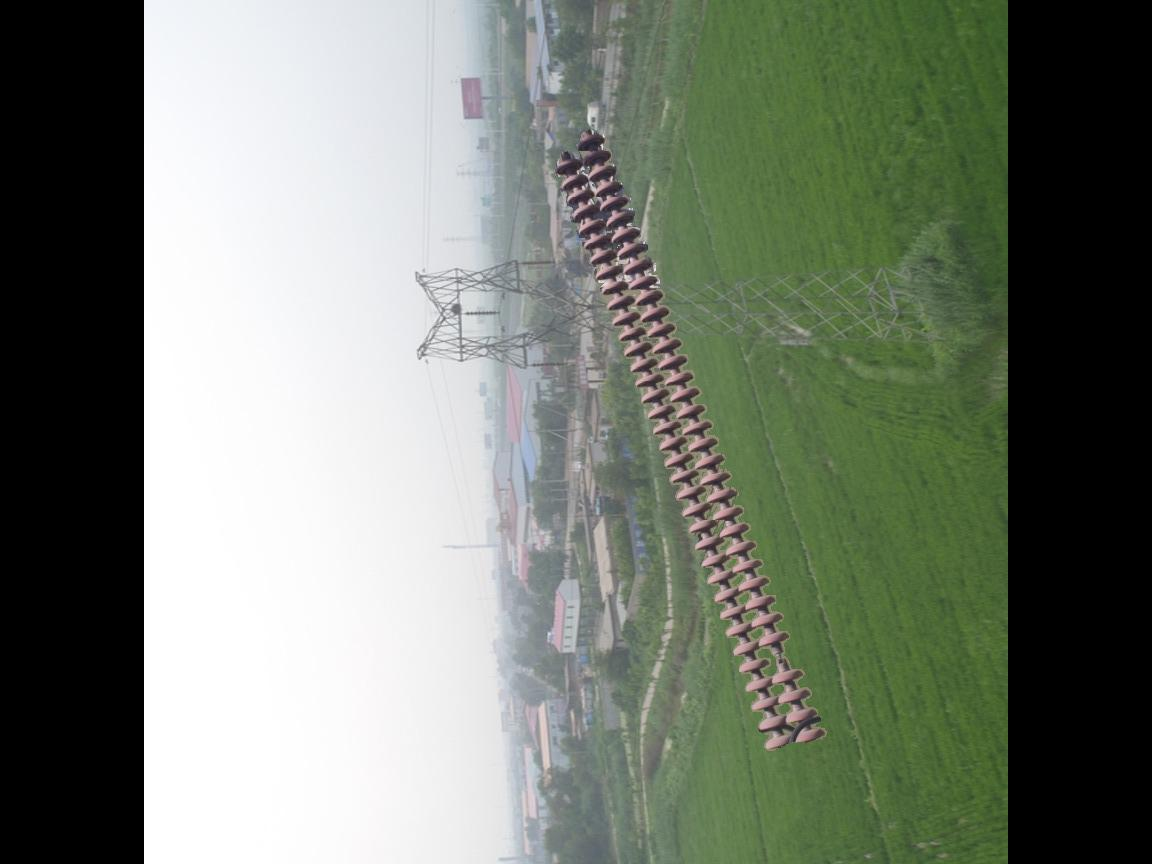insulator: (548, 123, 830, 757)
insulator_stringdrop: (756, 627, 810, 689)
